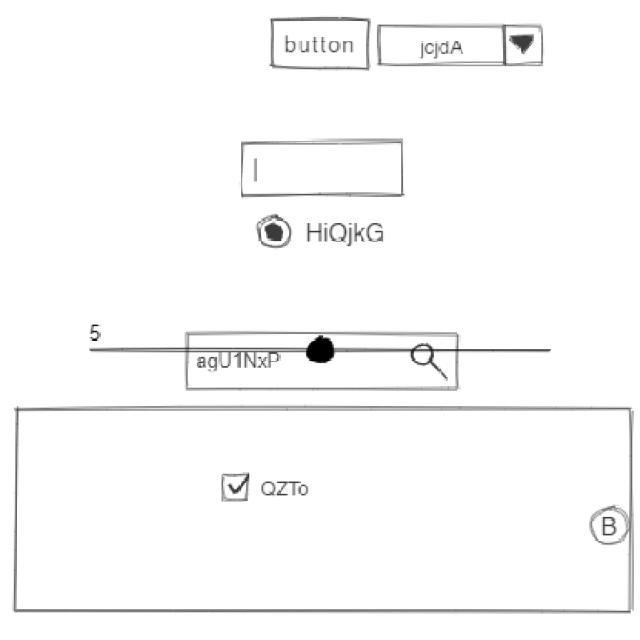button: (268, 14, 374, 73)
checkbox: (219, 471, 313, 505)
container: (11, 404, 638, 617)
icon-button: (588, 503, 631, 549)
input: (239, 139, 408, 201)
radio: (256, 213, 389, 250)
search: (184, 327, 464, 396)
select: (376, 23, 547, 70)
slider: (113, 335, 554, 365)
